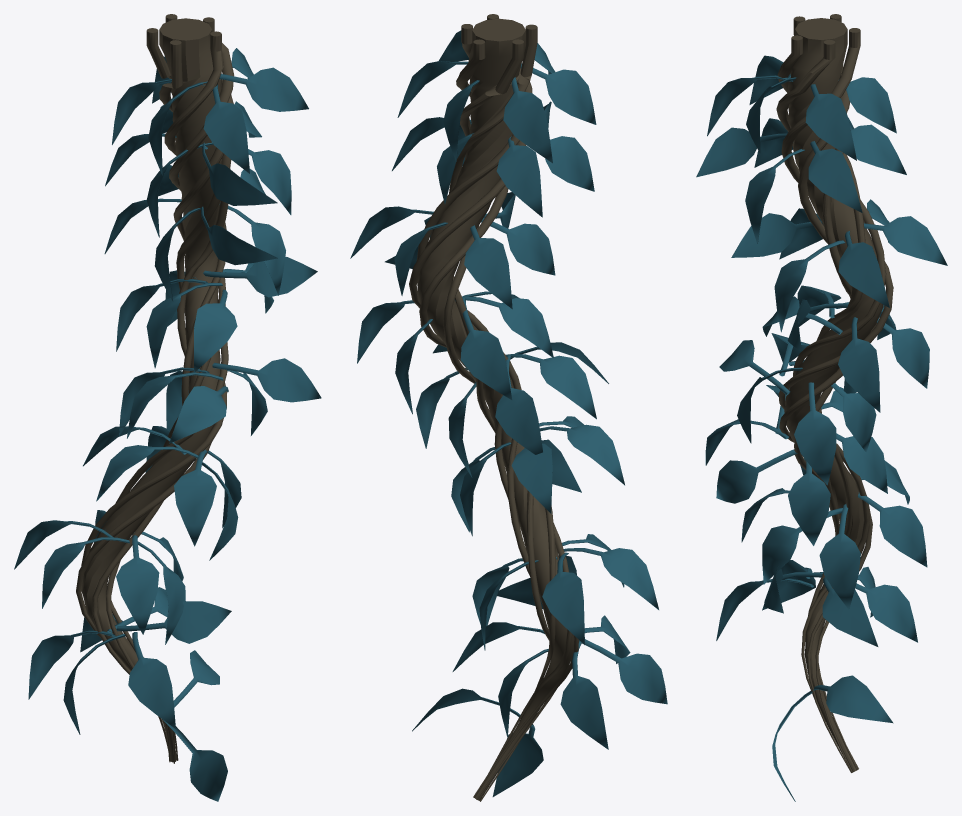
File: vine_1.fbx
3 views of the same model, side by side, from view 1: azimuth 30°, elevation 25°; view 2: azimuth 150°, elevation 25°; view 3: azimuth 270°, elevation 25° (orthographic). The views are drawn at different scales.
Visible parts, largest first — view 1: leaves_from_houdini2:Mesh1; view 2: leaves_from_houdini2:Mesh1; view 3: leaves_from_houdini2:Mesh1.
Boxes of the visible parts, x1,y1,x2,y2 form: leaves_from_houdini2:Mesh1: [14, 14, 321, 801]; leaves_from_houdini2:Mesh1: [350, 14, 667, 801]; leaves_from_houdini2:Mesh1: [696, 14, 947, 801].
Size of the model in its own units: 32.39 by 87.07 by 26.01.
